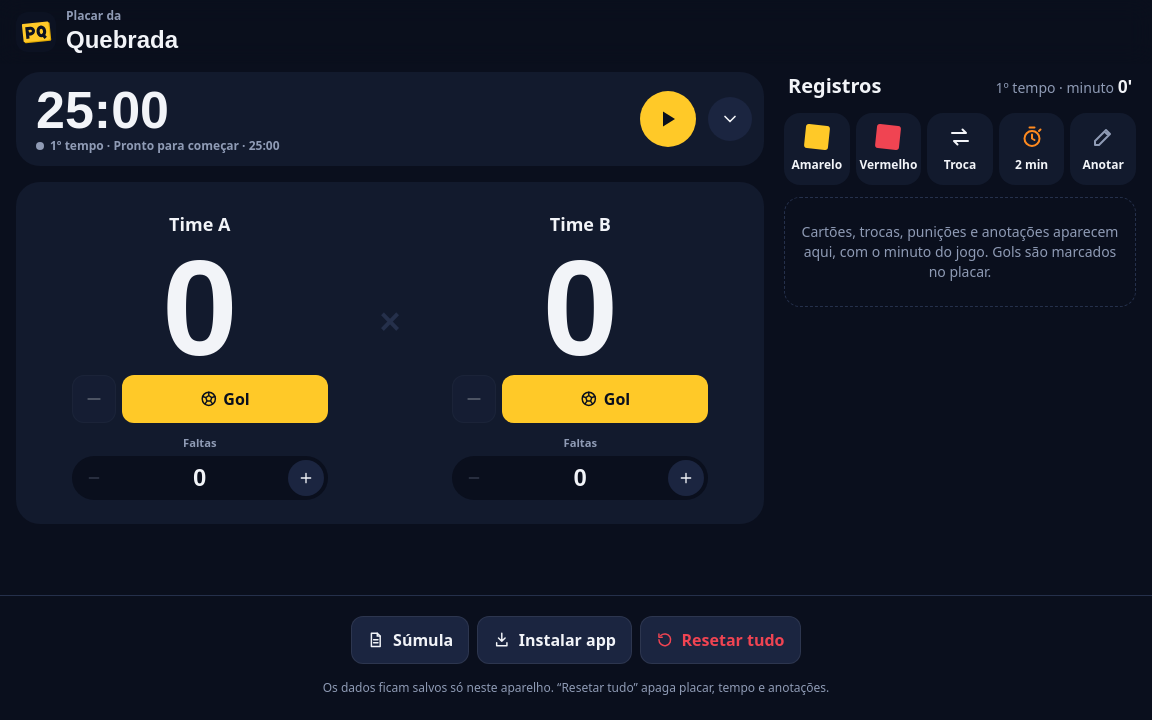
App › registro abre pop-up para escolher o time, com minuto e nome opcional
Replace the text in the 1st field named "Nome do primeiro time" with "Unidos" at {"x": 200, "y": 224}, box [40, 206, 360, 242]
Click the button named "Iniciar" at {"x": 668, "y": 119}, box [640, 91, 696, 147]
Wait 725000 ms
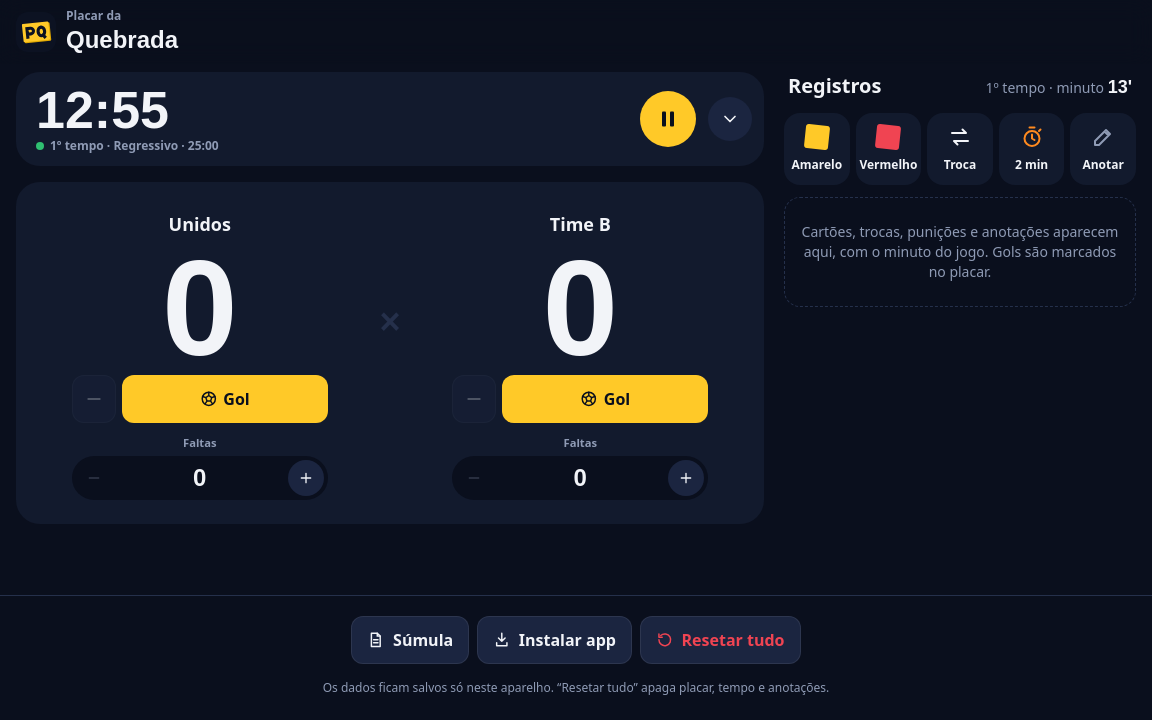
Click the button "Amarelo" at {"x": 817, "y": 149}, box [784, 113, 850, 185]
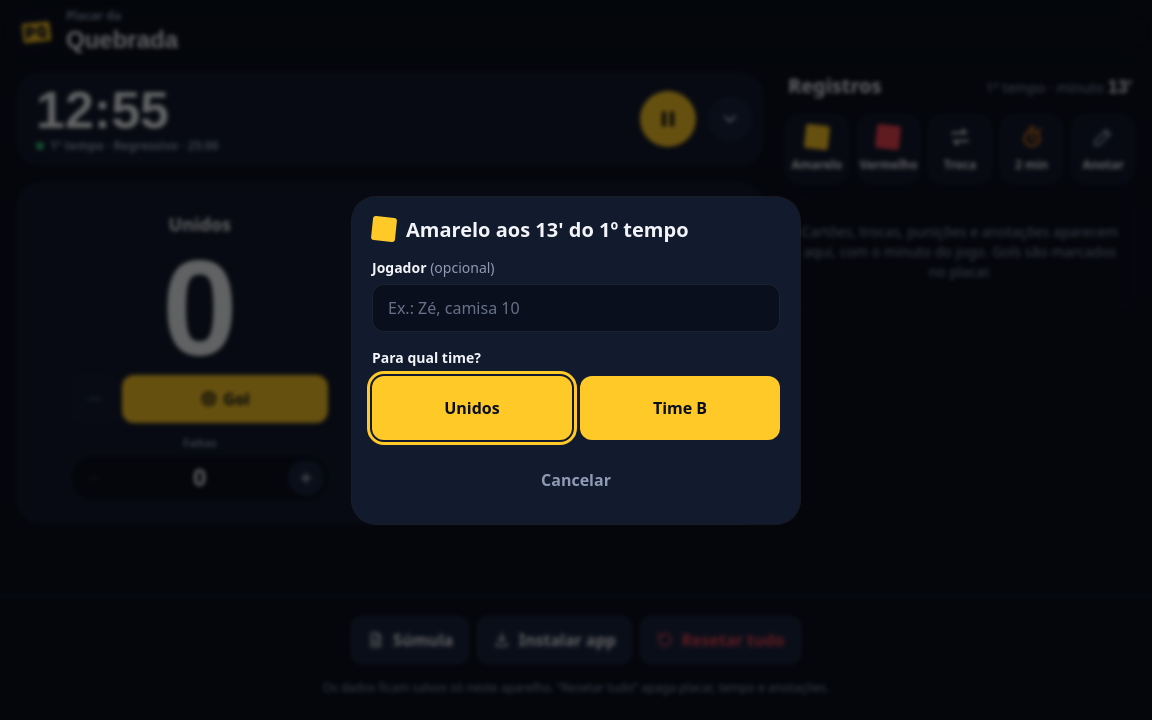
Type "Zé" into the field at {"x": 576, "y": 308}, box [372, 284, 780, 332]
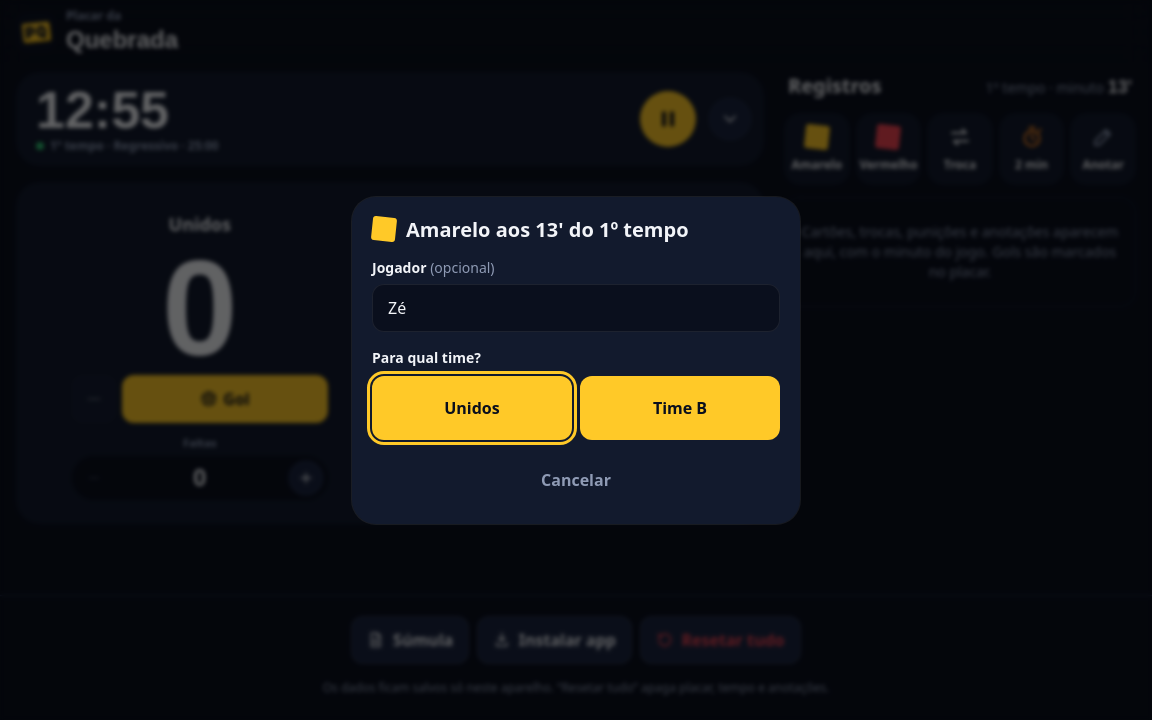
Click the button "Unidos" at {"x": 472, "y": 408}, box [372, 376, 572, 440]
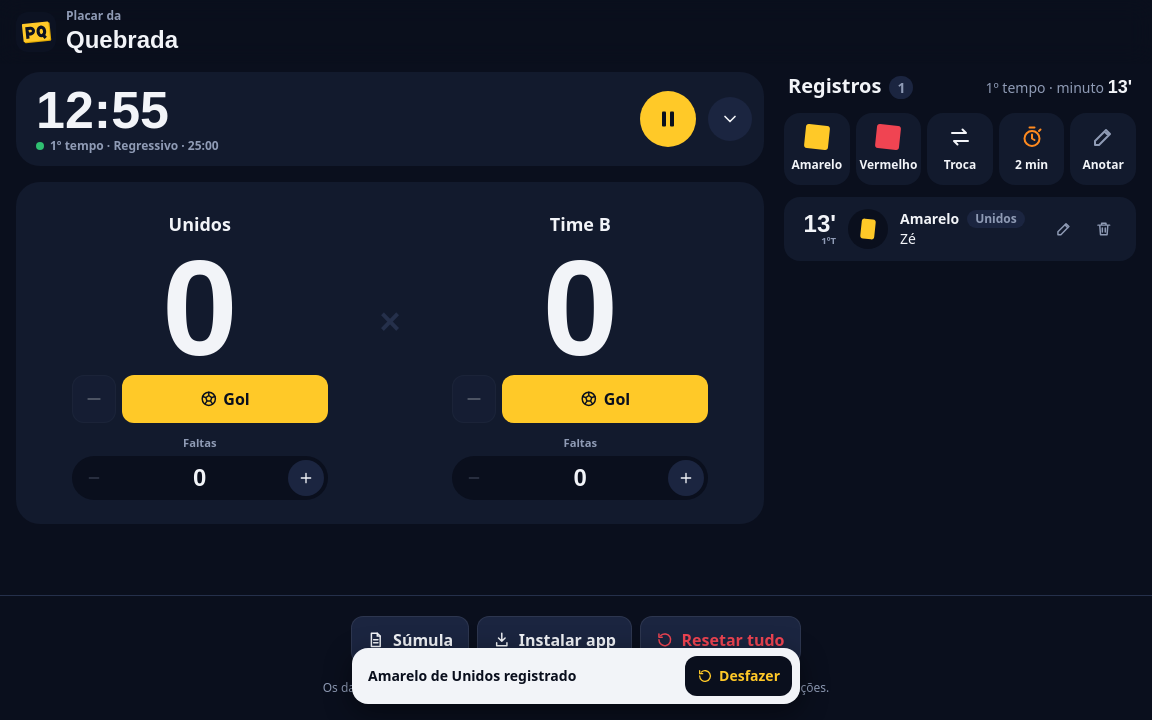
Check: the dialog is gone
Check: the list item shows "13'", box [784, 197, 1136, 261]
Check: the list item shows "Amarelo", box [900, 209, 959, 228]
Click the button "Vermelho" at {"x": 888, "y": 149}, box [856, 113, 921, 185]
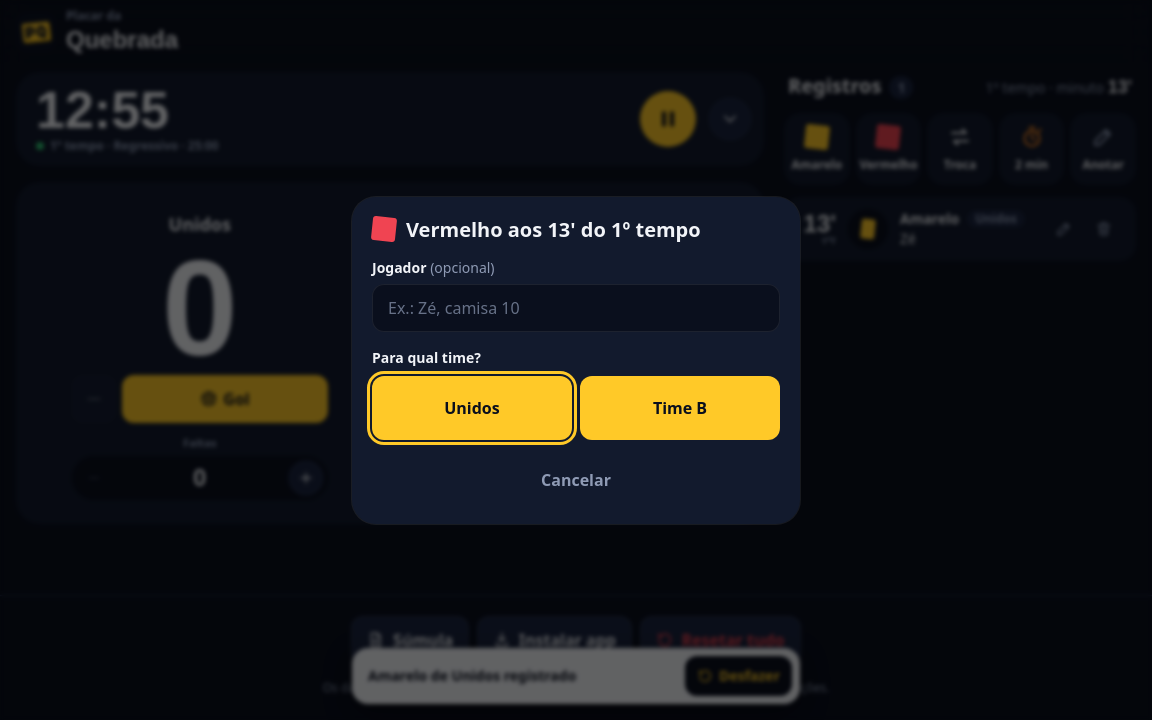
Click the button "Time B" at {"x": 680, "y": 408}, box [580, 376, 780, 440]
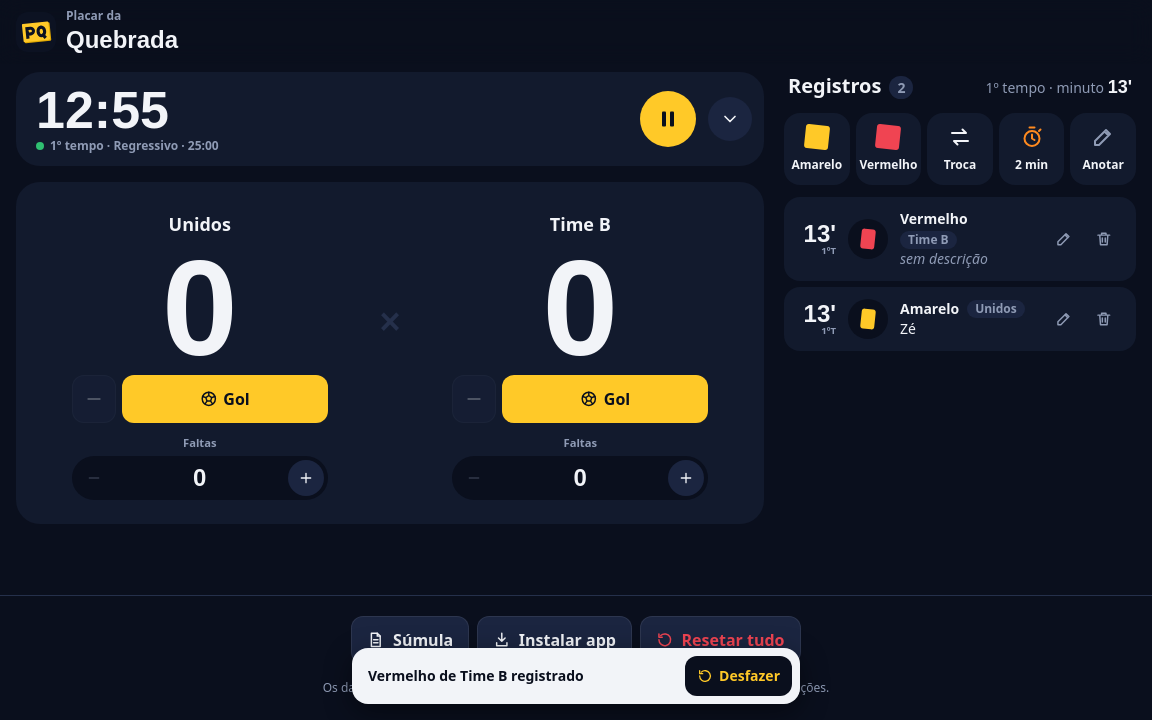
Check: the list item "13' 1ºT Vermelho Time B sem descrição" is shown, box [784, 197, 1136, 281]
